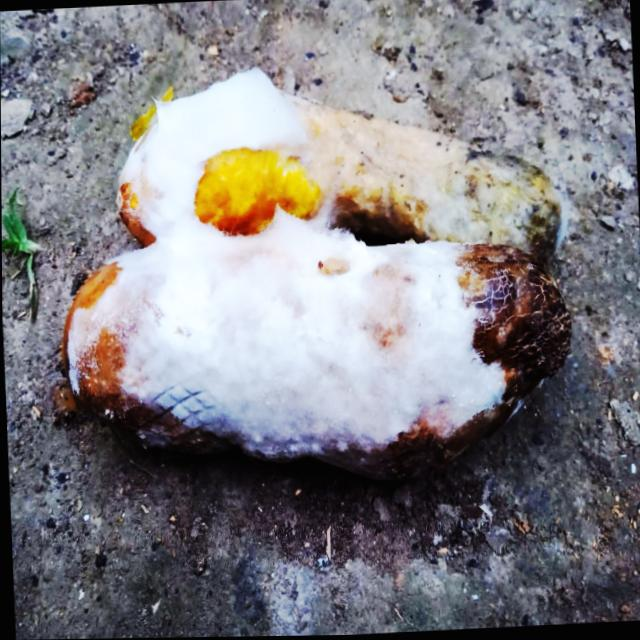Pythium-Fruit-Rot: (52, 59, 506, 472)
